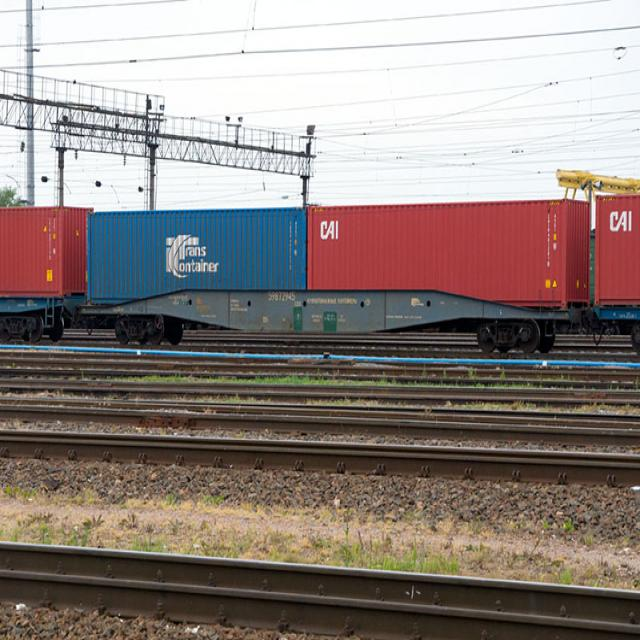flatcar: (81, 287, 578, 351), (0, 294, 83, 345)
tank: (308, 195, 590, 310), (86, 207, 307, 307), (0, 201, 88, 295), (594, 189, 640, 309)
